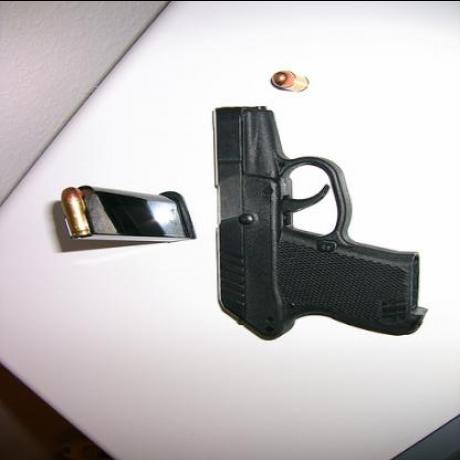weapon: (191, 100, 431, 346)
